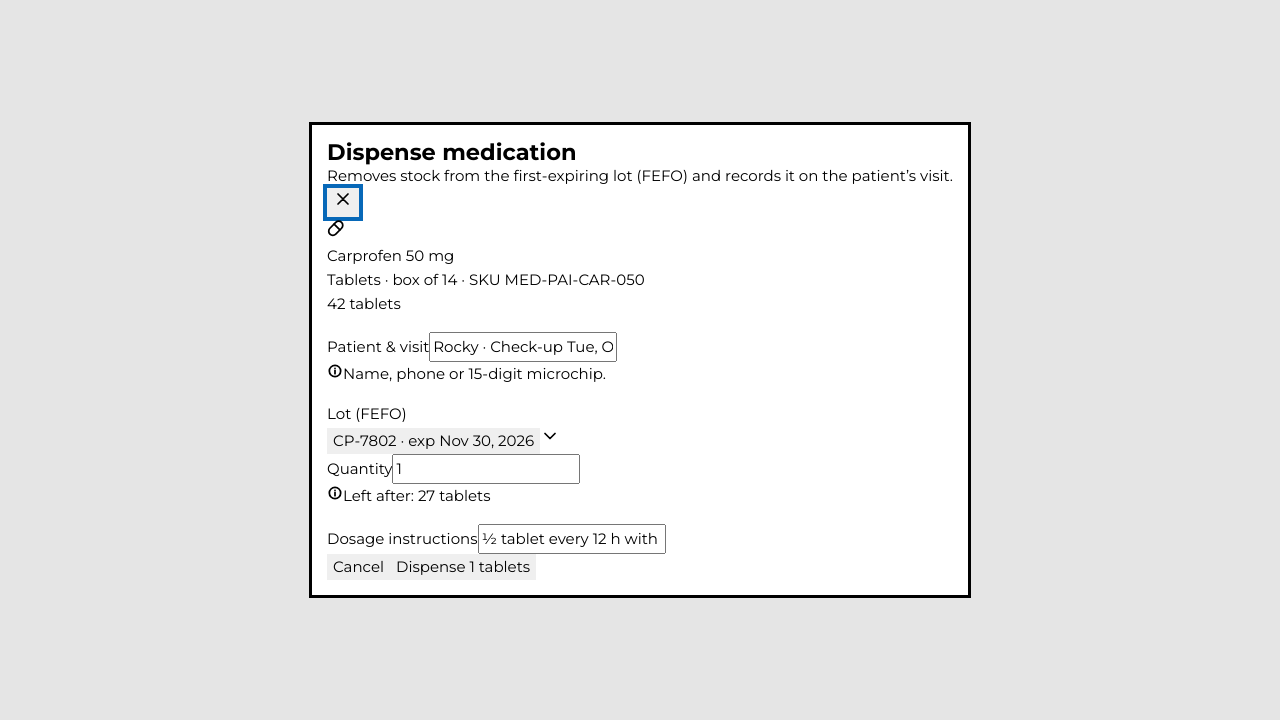
Scenario: DispenseModal › shows the product, the first lot to expire and what is left after the quantity
The image size is (1280, 720).
Expected: the dialog "Dispense medication" is shown, [309,122,971,598]
Expected: the text "Carprofen 50 mg" is shown, [327,246,454,265]
Replace the text in the field labelled "Quantity" with "10". click: (486, 469)
box: [392,454,580,484]
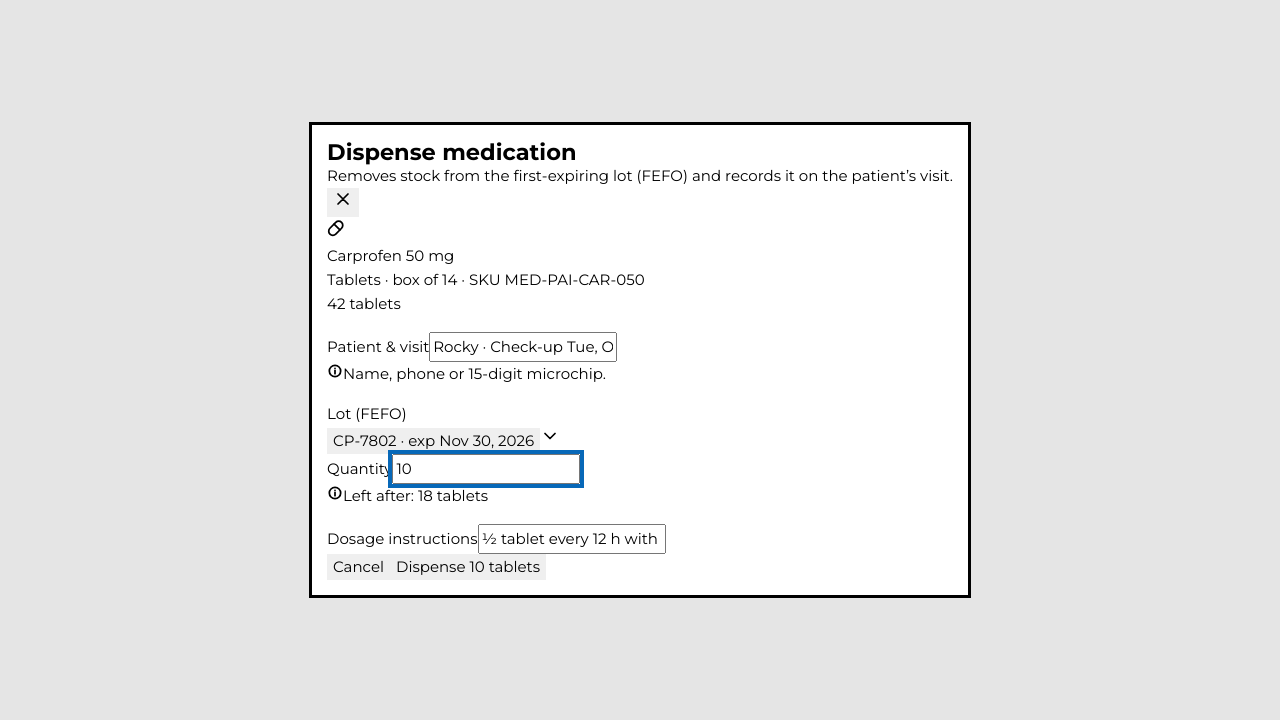
Expected: the text "Left after: 18 tablets" is shown, [343,486,488,505]
Expected: the button "Dispense 10 tablets" is shown, [390,554,546,580]
